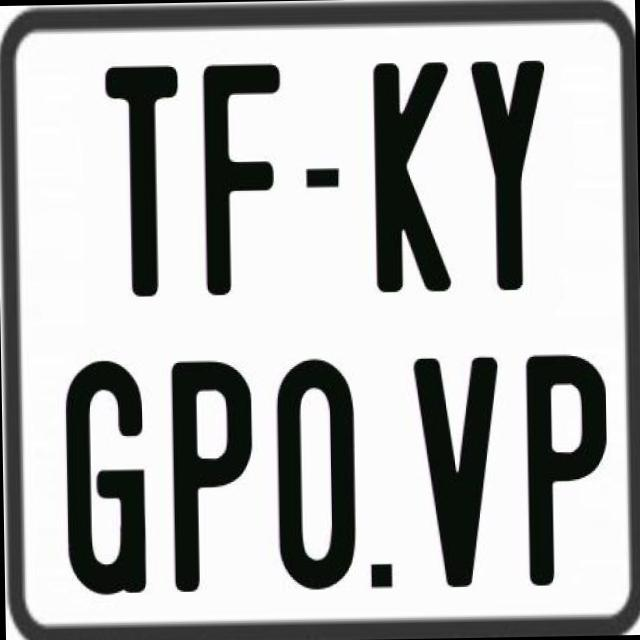0: (272, 358, 358, 599)
F: (198, 58, 280, 300)
G: (60, 357, 144, 597)
K: (372, 59, 456, 298)
P: (522, 353, 612, 588), (168, 357, 252, 596)
T: (102, 62, 184, 300)
V: (408, 353, 504, 589)
Y: (469, 56, 553, 292)
